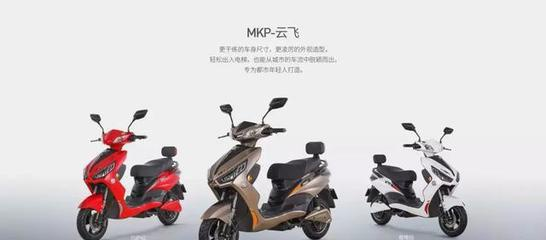non-vehicle: (201, 95, 338, 240), (80, 109, 186, 238), (367, 122, 467, 237)
